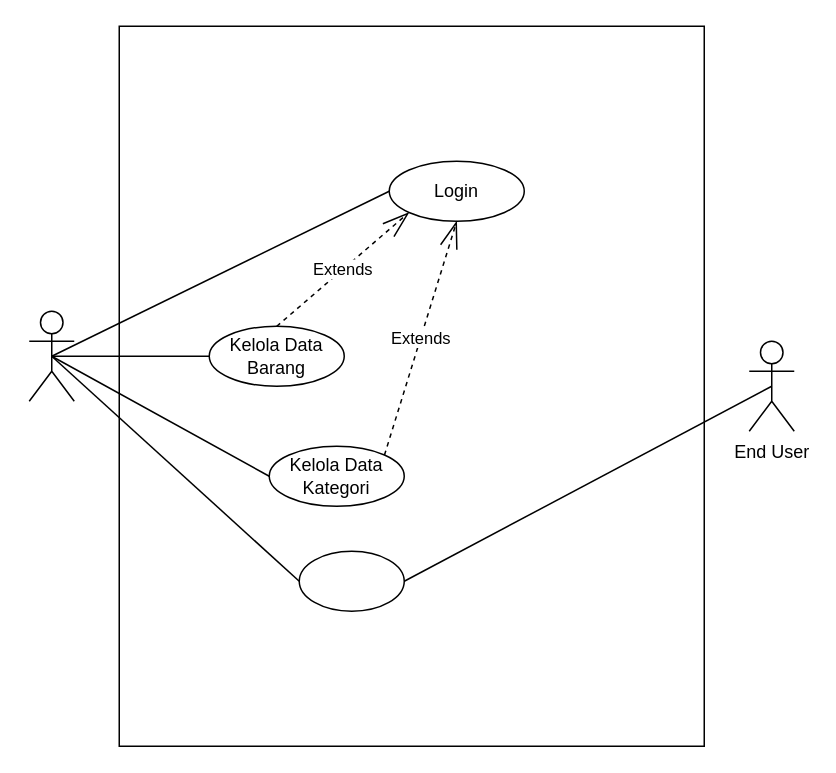
Some shapes in this 836 by 773 pixel diagram are drawn without their labels. The shapes that lost their labels are listed below. From the top down, each one's centre as x and y in pixels, then its label:
[51,355]: Admin
[351,580]: View Data Barang
